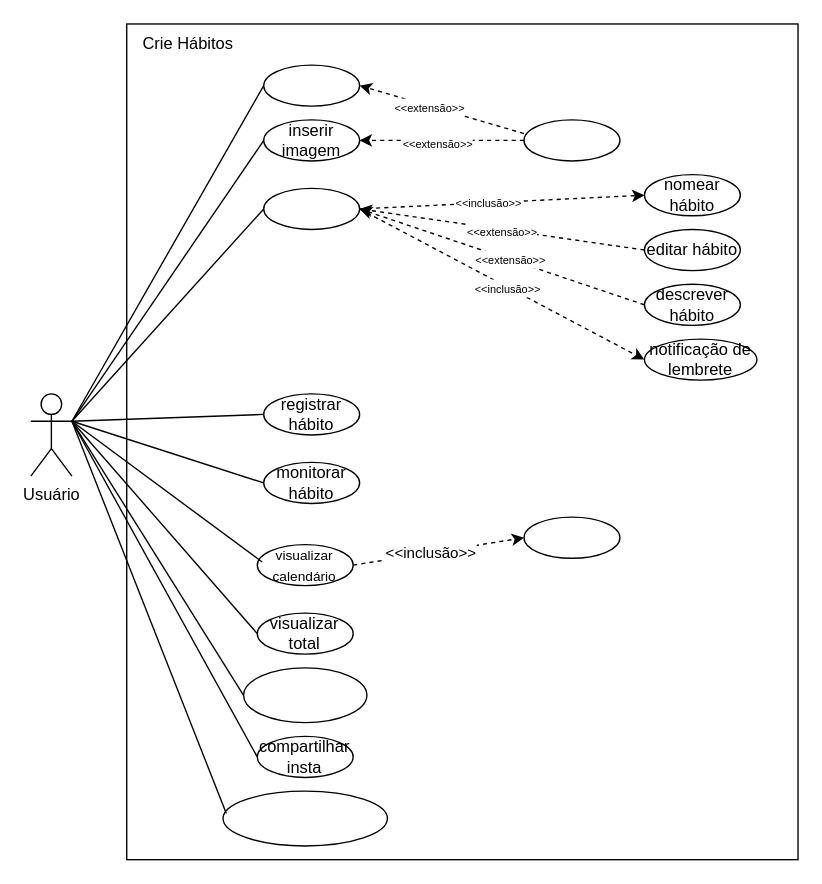
Image size: 822x884. Some labels were removed from this diagram. Here are the shapes that lost their labels. From the top down, the box of each, then its label:
(262, 64, 360, 106): inserir nome
(523, 119, 620, 161): editar perfil
(262, 187, 360, 229): criar hábito
(523, 516, 620, 558): Visualizar sequencia
(242, 667, 367, 723): visualizar maior sequencia
(222, 790, 387, 846): informações sobre hábitos
